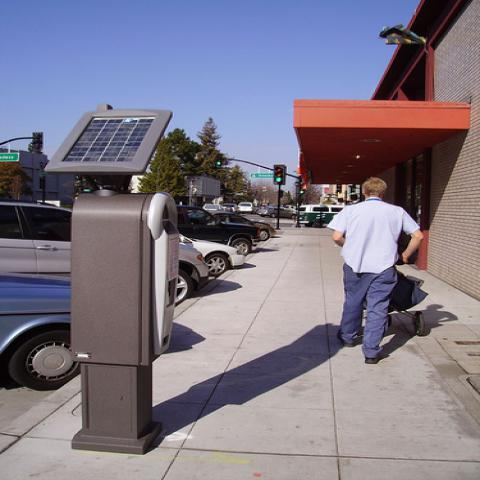car: (3, 199, 208, 306), (0, 275, 83, 392), (180, 234, 244, 276), (206, 210, 276, 241), (300, 205, 345, 226), (257, 206, 292, 218), (237, 203, 262, 214), (279, 204, 297, 214), (202, 204, 222, 210)
truck: (177, 205, 261, 255)
